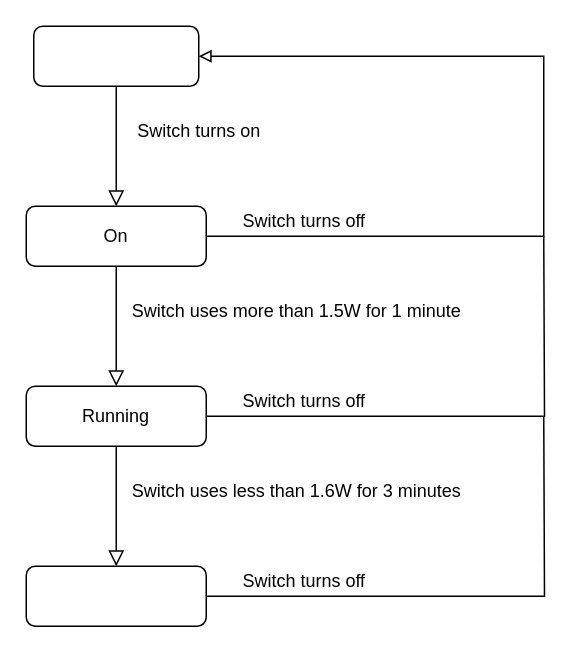
The diagram is 582 pixels wide and 653 high, and some of its shapes have lost their labels. Each missing label, with the centre of its shape:
Finished: (x=115, y=595)
Off: (x=115, y=55)
